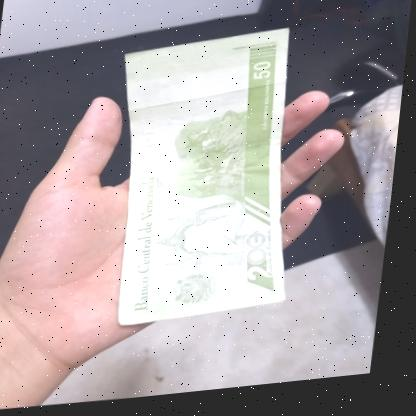fifty-back-vef: (97, 28, 321, 334)
